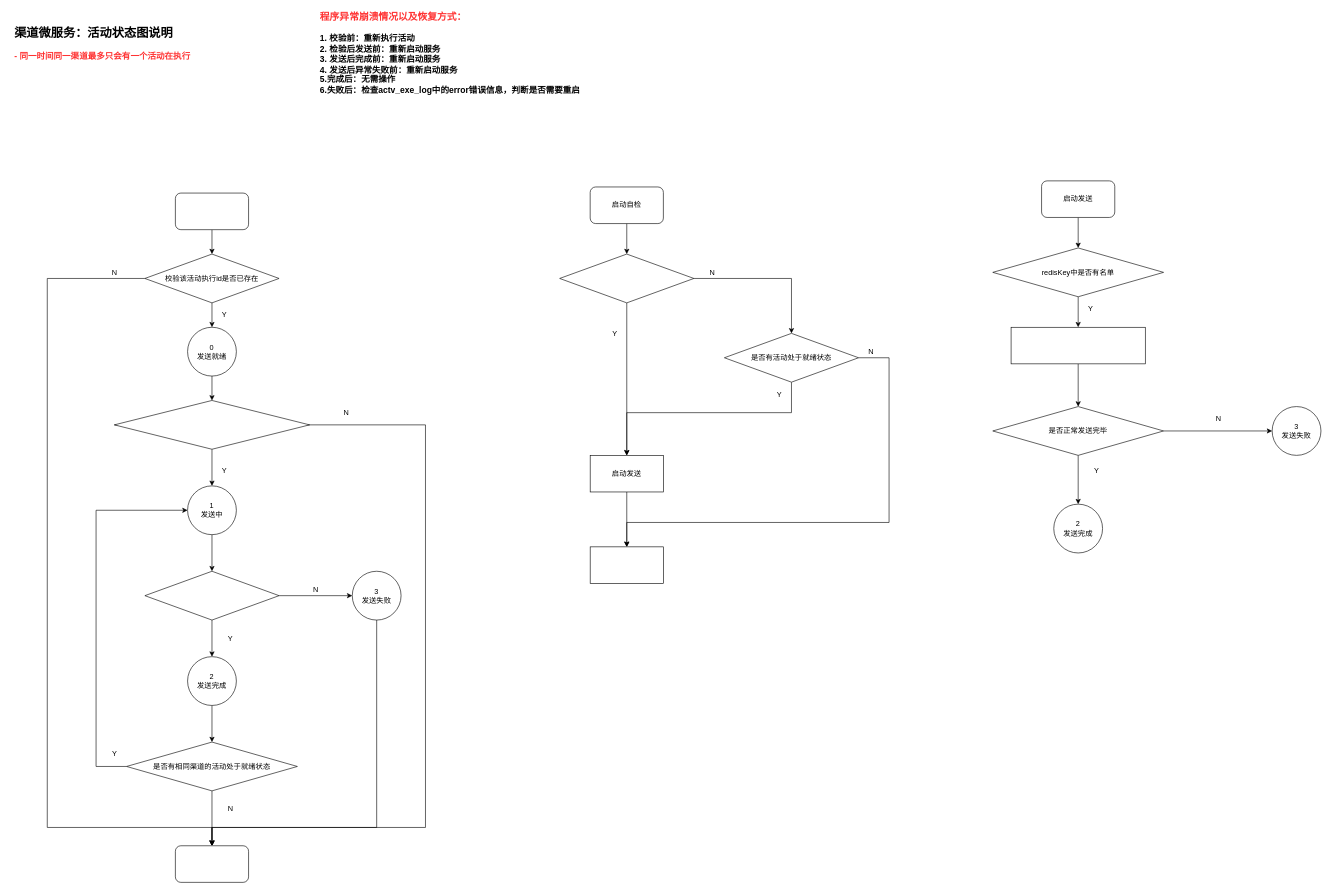
Some shapes in this 1332 by 893 pixel diagram are drawn without their labels. Each missing label, with the centre of its shape:
end: the point at 212,863
start: the point at 212,211
拼装发送报文并发送到kafka: the point at 1077,345
是否有活动处于正在执行状态: the point at 626,278
是否正常发送成功: the point at 211,595
校验是否有相同渠道的活动正在发往这个topic: the point at 212,424
正常启动: the point at 626,564
